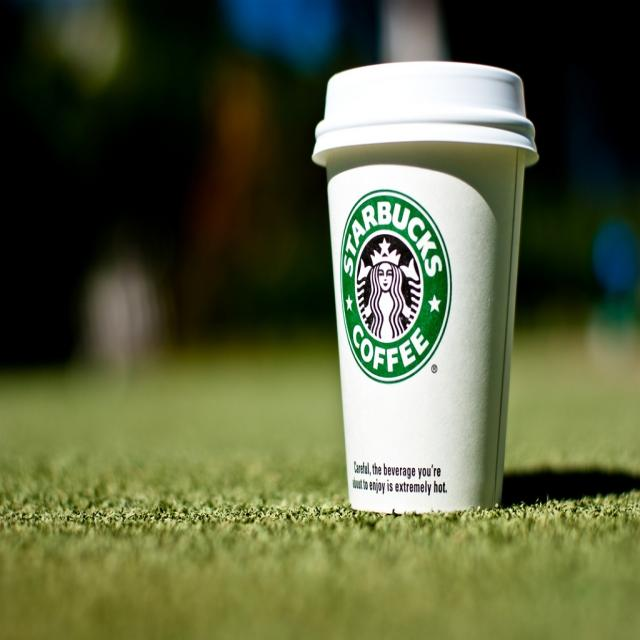starbucks: (342, 189, 453, 384)
